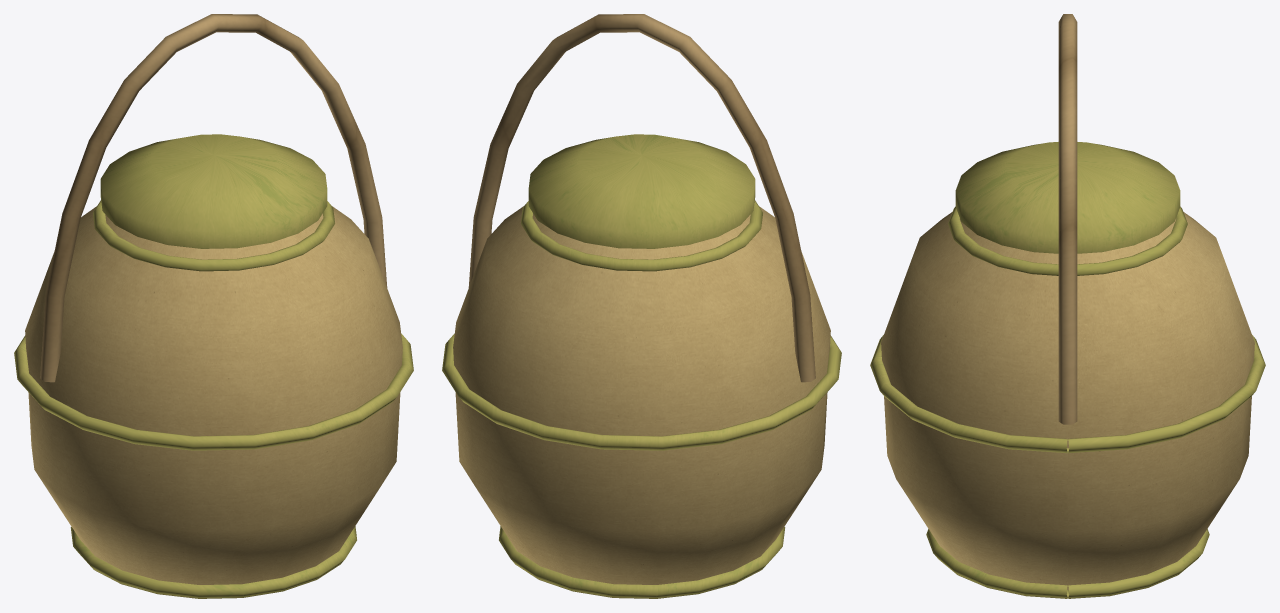
Rendered from HO_Prop_FishCreel.fbx.
3 renders of one model, left to right at view 1: azimuth 30°, elevation 25°; view 2: azimuth 150°, elevation 25°; view 3: azimuth 270°, elevation 25°, orthographic.
Parts seen in each view (by area): view 1: HO_Prop_FishCreel__Straw, HO_Prop_FishCreel__Bamboo, HO_Prop_FishCreel__Rope; view 2: HO_Prop_FishCreel__Straw, HO_Prop_FishCreel__Bamboo, HO_Prop_FishCreel__Rope; view 3: HO_Prop_FishCreel__Straw, HO_Prop_FishCreel__Bamboo, HO_Prop_FishCreel__Rope.
Part boxes in pixels (x1=…): HO_Prop_FishCreel__Straw: x1=25, y1=206, x2=402, y2=584; HO_Prop_FishCreel__Bamboo: x1=14, y1=134, x2=413, y2=598; HO_Prop_FishCreel__Rope: x1=40, y1=14, x2=387, y2=382; HO_Prop_FishCreel__Straw: x1=453, y1=206, x2=830, y2=584; HO_Prop_FishCreel__Bamboo: x1=442, y1=134, x2=841, y2=598; HO_Prop_FishCreel__Rope: x1=468, y1=14, x2=815, y2=382; HO_Prop_FishCreel__Straw: x1=881, y1=212, x2=1254, y2=589; HO_Prop_FishCreel__Bamboo: x1=870, y1=142, x2=1265, y2=598; HO_Prop_FishCreel__Rope: x1=1058, y1=14, x2=1077, y2=424.
Size of the model in its own units: 1.27 by 1.83 by 1.27.
